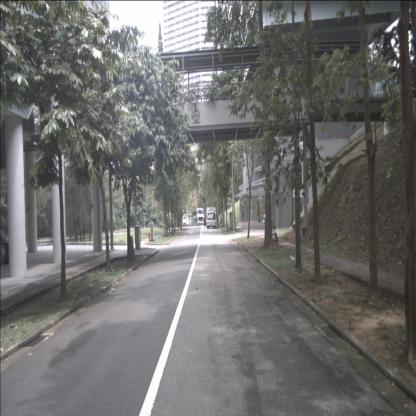human-pedestrian-adult: (204, 216, 207, 228), (216, 215, 218, 228), (220, 215, 222, 226)
vehicle-bicycle: (271, 220, 278, 249)
vehicle-bus-rigid: (192, 208, 204, 226)
vehicle-truck: (205, 207, 216, 228)
